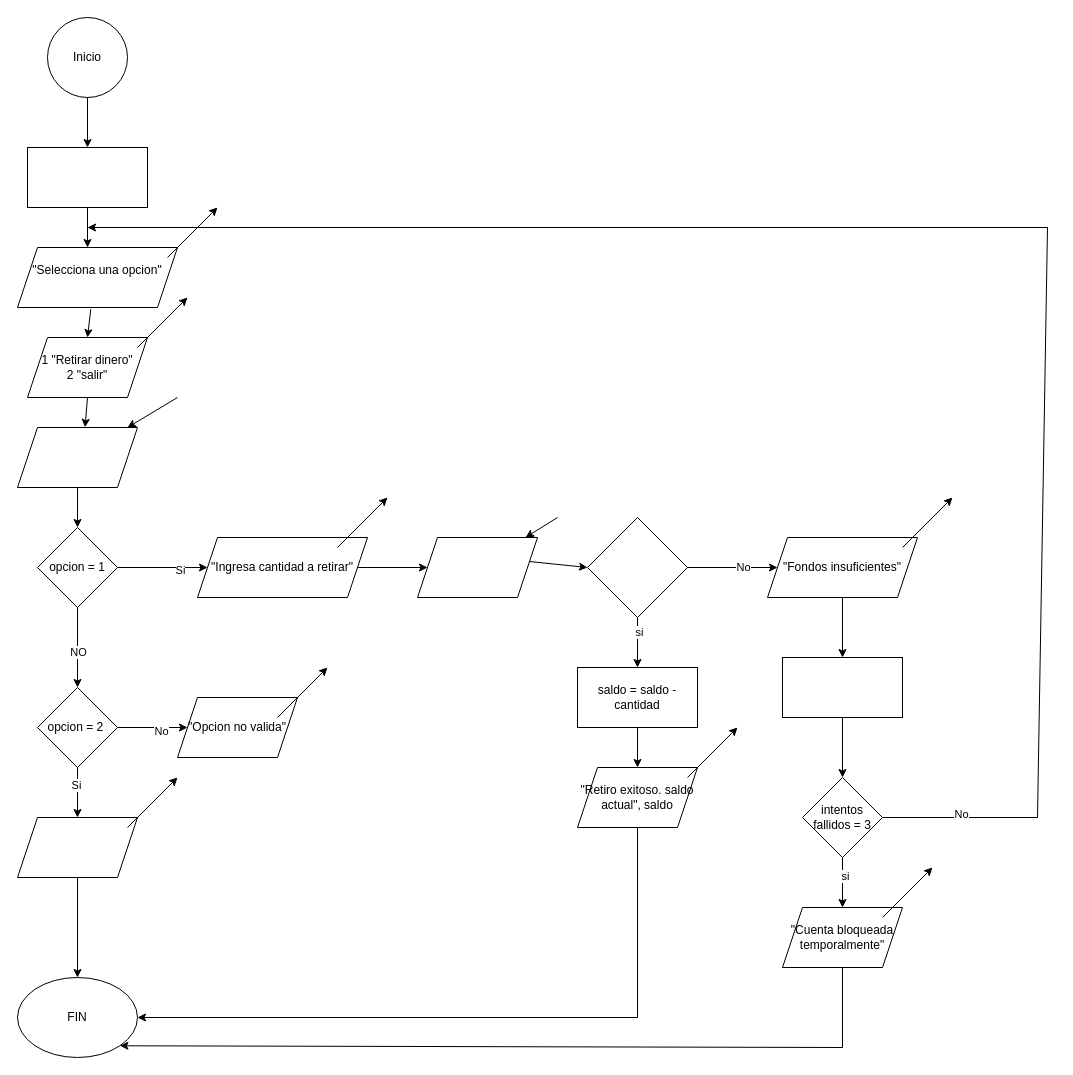
The diagram is 1073 pixels wide and 1075 high, and some of its shapes have lost their labels. Here are the shapes that lost their labels. From the top down, the box of each, then its label:
(26, 146, 148, 208): saldo = 5000 intentos_fallidos = 0
(16, 426, 138, 488): Leer opcion
(416, 536, 538, 598): Leer cantidad
(586, 516, 688, 618): cantidad <= saldo
(782, 656, 902, 718): intentos fallidos = intentos fallidos + 1
(16, 816, 138, 878): "Gracias, hasta luego"
